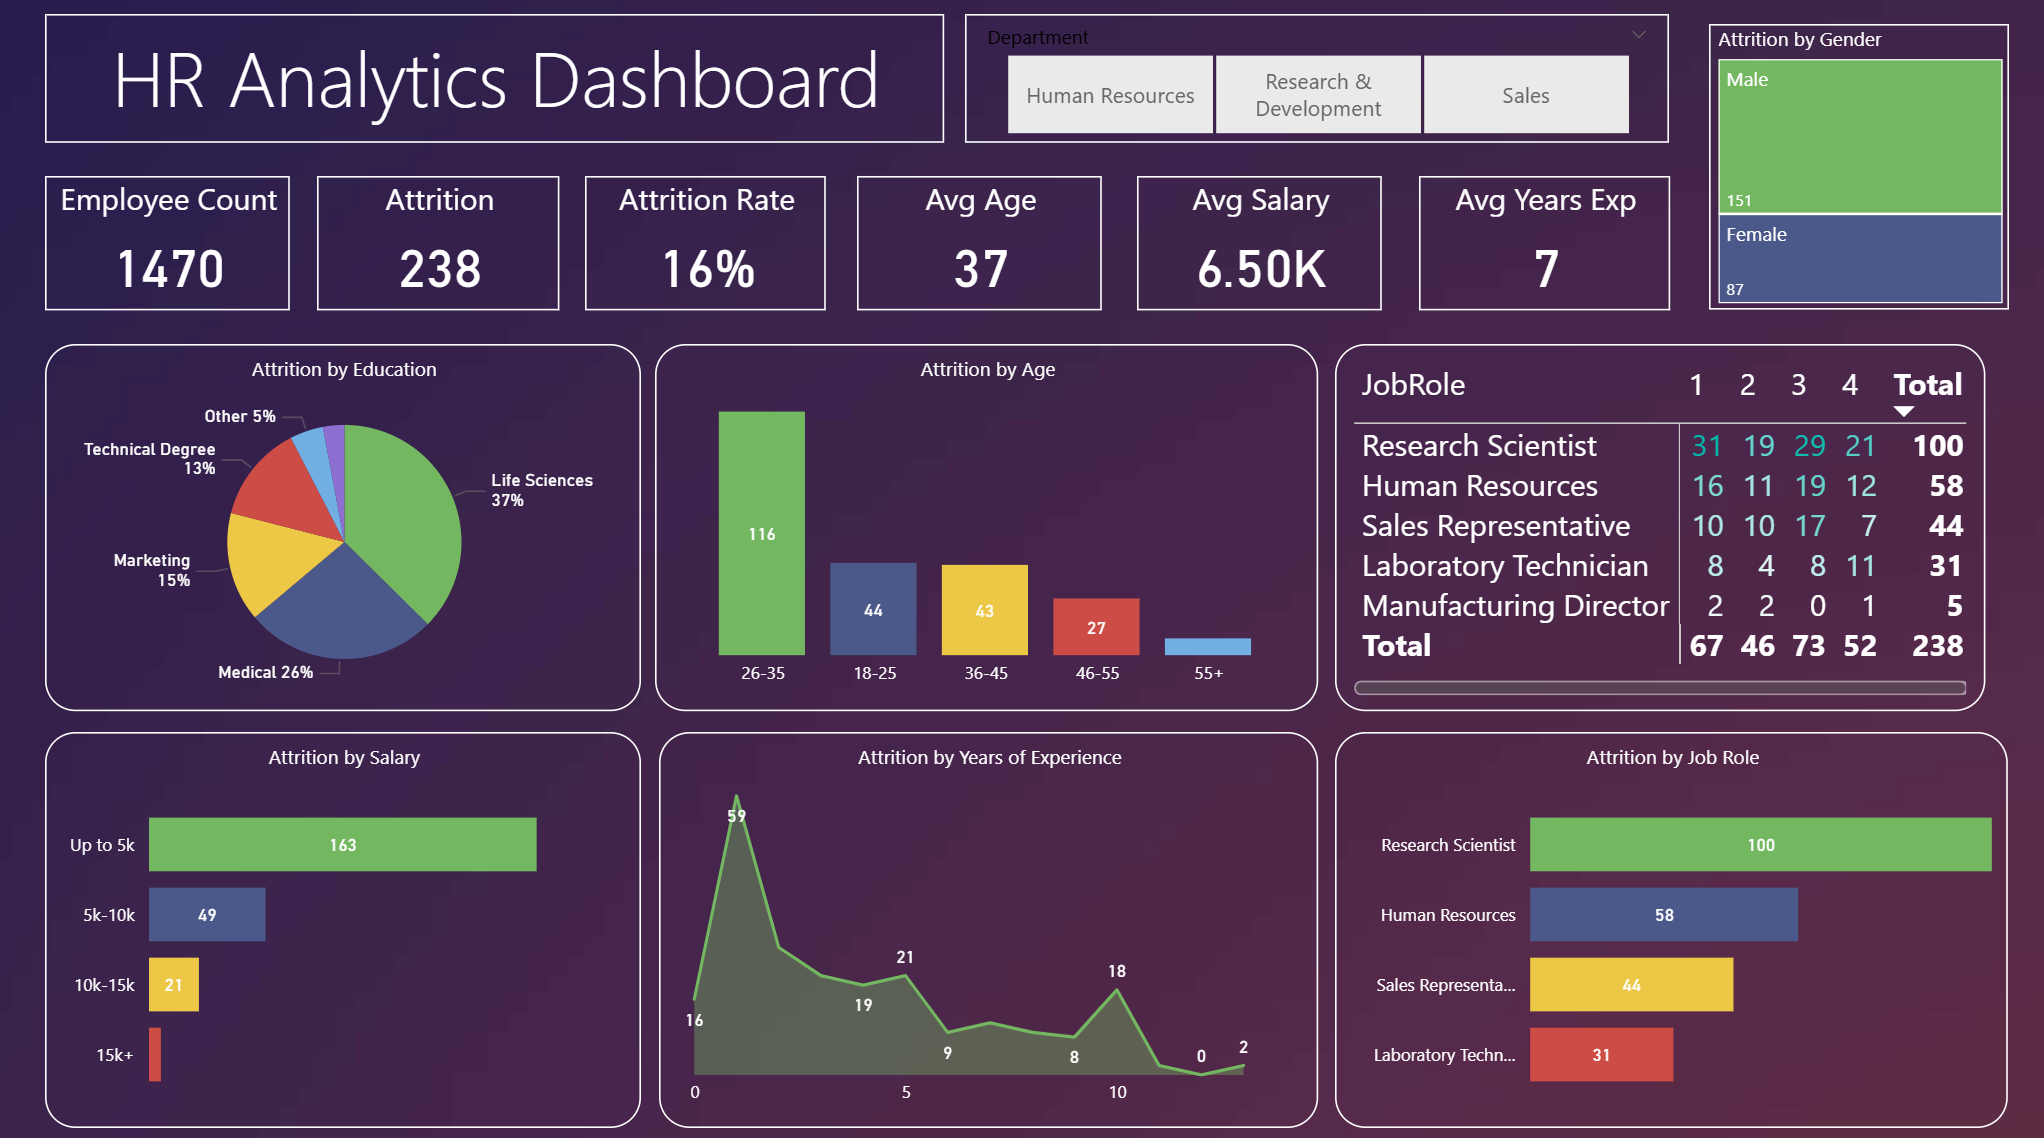

Layout of this report page (visuals, bound fields, positions):
{"tool":"powerbi","page":{"name":"HR Analytics","canvas":[1280,720],"ordinal":1},"visuals":[{"type":"card","title":"Employee Count","fields":{"Values":["Count(HR_Data.EmpID)"]},"box":[29.3,112.2,153,84.1],"z":0},{"type":"card","title":"Attrition","fields":{"Values":["Sum(HR_Data.Attrition_Count)"]},"box":[198.9,112.2,151.7,84.1],"z":1000},{"type":"card","title":"Avg Salary","fields":{"Values":["Avg(HR_Data.MonthlyIncome)"]},"box":[711.4,112.2,153,84.1],"z":2000},{"type":"card","title":"Attrition Rate","fields":{"Values":["HR_Data.Attrition Rate"]},"box":[365.9,112.2,150.4,84.1],"z":3000},{"type":"card","title":"Avg Age","fields":{"Values":["Avg(HR_Data.Age)"]},"box":[536.7,112.2,153,84.1],"z":4000},{"type":"card","title":"Avg Years Exp","fields":{"Values":["Avg(HR_Data.YearsAtCompany)"]},"box":[887.3,112.2,156.8,84.1],"z":5000},{"type":"textbox","box":[29.3,11.5,562.2,80.3],"z":6000},{"type":"slicer","fields":{"Values":["Departments.Department"]},"box":[604.3,11.5,439.8,80.3],"z":7000},{"type":"treemap","title":"Attrition by Gender","fields":{"Group":["HR_Data.Gender"],"Values":["Sum(HR_Data.Attrition_Count)"]},"box":[1068.4,17.8,187.4,178.5],"z":8000},{"type":"pieChart","title":"Attrition by Education","fields":{"Y":["Sum(HR_Data.Attrition_Count)"],"Category":["Education.Education"]},"box":[29.3,218,372.3,229.5],"z":9000},{"type":"barChart","title":"Attrition by Job Role","fields":{"Y":["Sum(HR_Data.Attrition_Count)"],"Category":["Jobs.JobRole"],"Series":["Jobs.JobRole"]},"box":[835.1,460.2,420.7,247.3],"z":10000},{"type":"columnChart","title":"Attrition by Age","fields":{"Category":["HR_Data.AgeGroup"],"Y":["Sum(HR_Data.Attrition_Count)"],"Series":["HR_Data.AgeGroup"]},"box":[410.5,218,414.3,229.5],"z":11000},{"type":"pivotTable","title":"Attrition by Education","fields":{"Values":["Sum(HR_Data.Attrition_Count)"],"Rows":["Jobs.JobRole"],"Columns":["HR_Data.JobSatisfaction"]},"box":[835.1,218,406.7,229.5],"z":12000},{"type":"areaChart","title":"Attrition by Years of Experience","fields":{"Category":["HR_Data.YearsAtCompany"],"Y":["Sum(HR_Data.Attrition_Count)"]},"box":[413.1,460.2,411.8,247.3],"z":13000},{"type":"barChart","title":"Attrition by Salary","fields":{"Category":["HR_Data.SalarySlab"],"Y":["Sum(HR_Data.Attrition_Count)"],"Series":["HR_Data.SalarySlab"]},"box":[29.3,460.2,372.3,247.3],"z":13001}]}

Visuals, with their boxes in screenshot pixels (x1, y1, x2, y2), scaled from the page's 1280x720 canvas onto the 2044x1138 screenshot:
"Employee Count" card: 47,177,291,310
"Attrition" card: 318,177,560,310
"Avg Salary" card: 1136,177,1380,310
"Attrition Rate" card: 584,177,824,310
"Avg Age" card: 857,177,1101,310
"Avg Years Exp" card: 1417,177,1667,310
textbox: 47,18,945,145
slicer - Departments.Department: 965,18,1667,145
"Attrition by Gender" treemap: 1706,28,2005,310
"Attrition by Education" pieChart: 47,345,641,707
"Attrition by Job Role" barChart: 1334,727,2005,1118
"Attrition by Age" columnChart: 656,345,1317,707
"Attrition by Education" pivotTable: 1334,345,1983,707
"Attrition by Years of Experience" areaChart: 660,727,1317,1118
"Attrition by Salary" barChart: 47,727,641,1118
